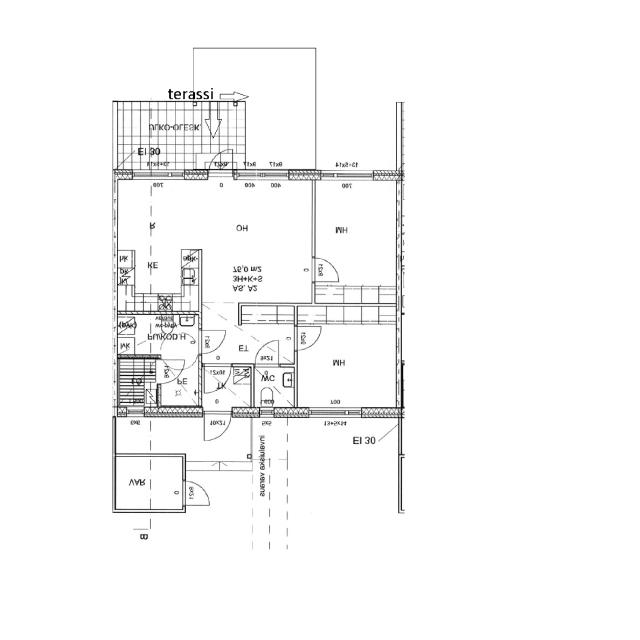door: (201, 408, 233, 443), (201, 361, 231, 396), (311, 254, 342, 285), (251, 336, 281, 367), (196, 327, 228, 356), (294, 323, 323, 352), (183, 479, 211, 507), (158, 357, 185, 385)
window: (305, 404, 361, 422), (318, 168, 378, 184), (234, 168, 290, 183), (141, 167, 189, 182), (256, 407, 278, 420), (123, 408, 146, 418)
zone: (116, 180, 200, 312), (297, 311, 399, 413), (311, 179, 400, 295), (116, 312, 201, 358), (117, 455, 182, 511), (115, 354, 158, 412), (158, 357, 202, 409), (252, 366, 295, 410), (201, 363, 235, 400), (238, 304, 293, 324)
